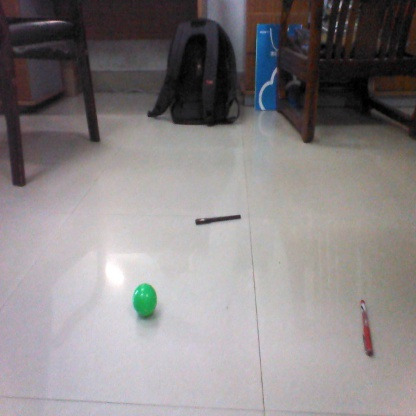ball: (132, 284, 160, 317)
pen: (359, 299, 379, 357), (193, 215, 247, 224)
